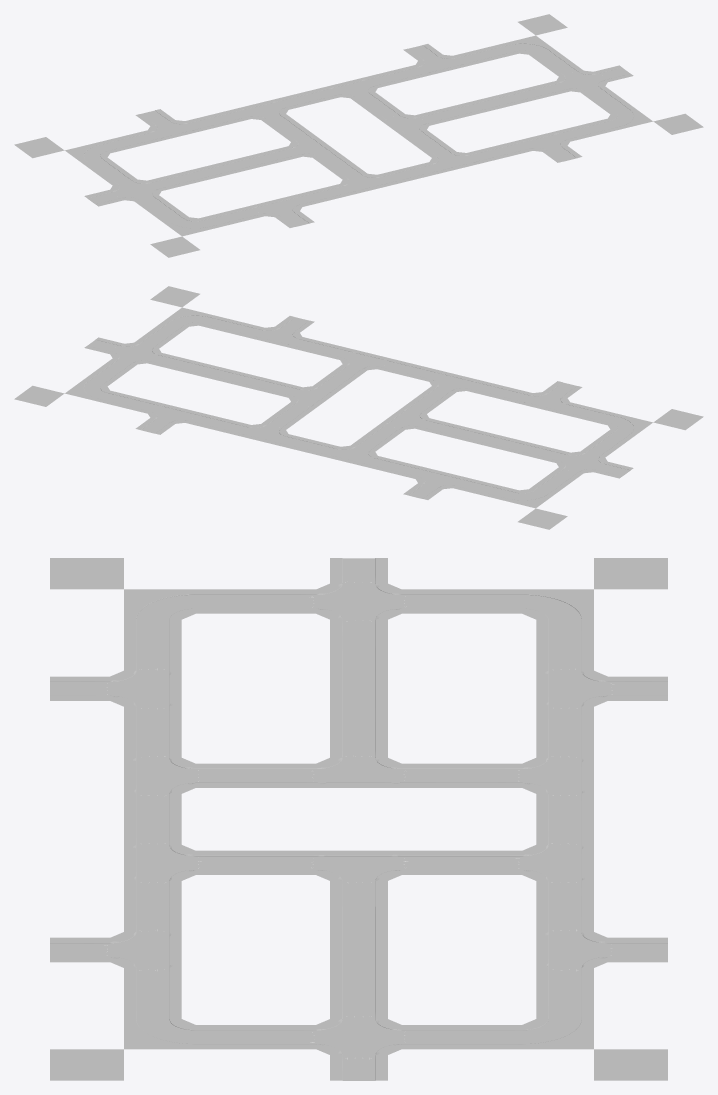
The model's file is Double-Block-01.fbx.
3 renders of one model, top to bottom at view 1: azimuth 30°, elevation 25°; view 2: azimuth 150°, elevation 25°; view 3: azimuth 270°, elevation 25°, orthographic. The views are drawn at different scales.
Parts seen in each view (by area): view 1: Double-Block-01, Double-Block-01-Sidewalk; view 2: Double-Block-01, Double-Block-01-Sidewalk; view 3: Double-Block-01, Double-Block-01-Sidewalk.
Boxes of the visible parts, <box> form: Double-Block-01: <box>14,14,703,257</box>; Double-Block-01-Sidewalk: <box>65,35,652,236</box>; Double-Block-01: <box>14,286,703,529</box>; Double-Block-01-Sidewalk: <box>65,307,652,508</box>; Double-Block-01: <box>50,558,667,1080</box>; Double-Block-01-Sidewalk: <box>50,558,667,1080</box>.
Size of what is drawn, in the model's own units: 60000 by 15.13 by 30000.
